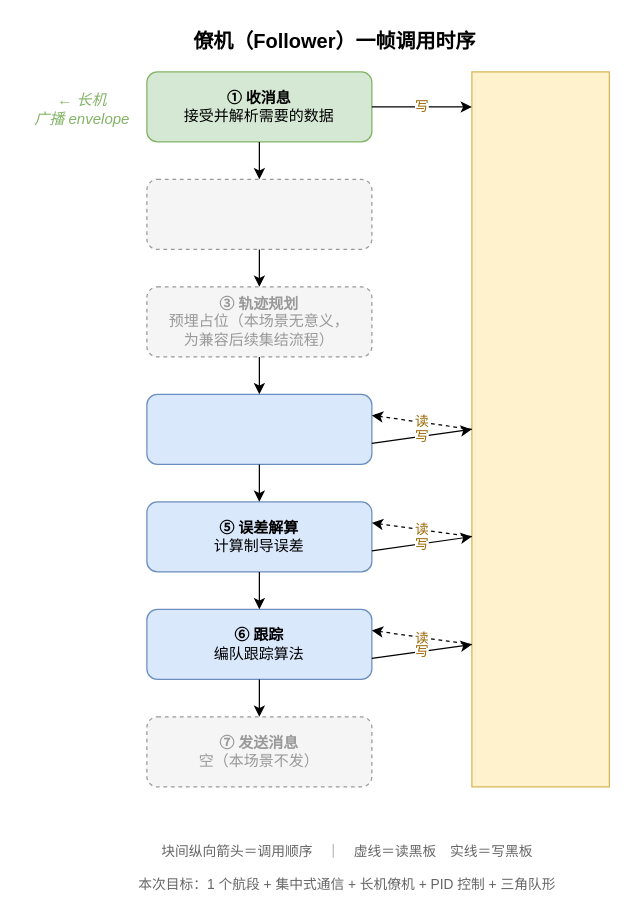
The diagram is 643 pixels wide and 920 high, and some of its shapes have lost their labels. The centre of each missing label's shape, as x and y in pixels:
"Context （黑板）" goes at pixel 540 429.
"② 任务编排 空（本场景不编排）" goes at pixel 259 213.
"④ 位置解算 基于主机位置+队形+槽位号 计算位置指令" goes at pixel 259 428.
